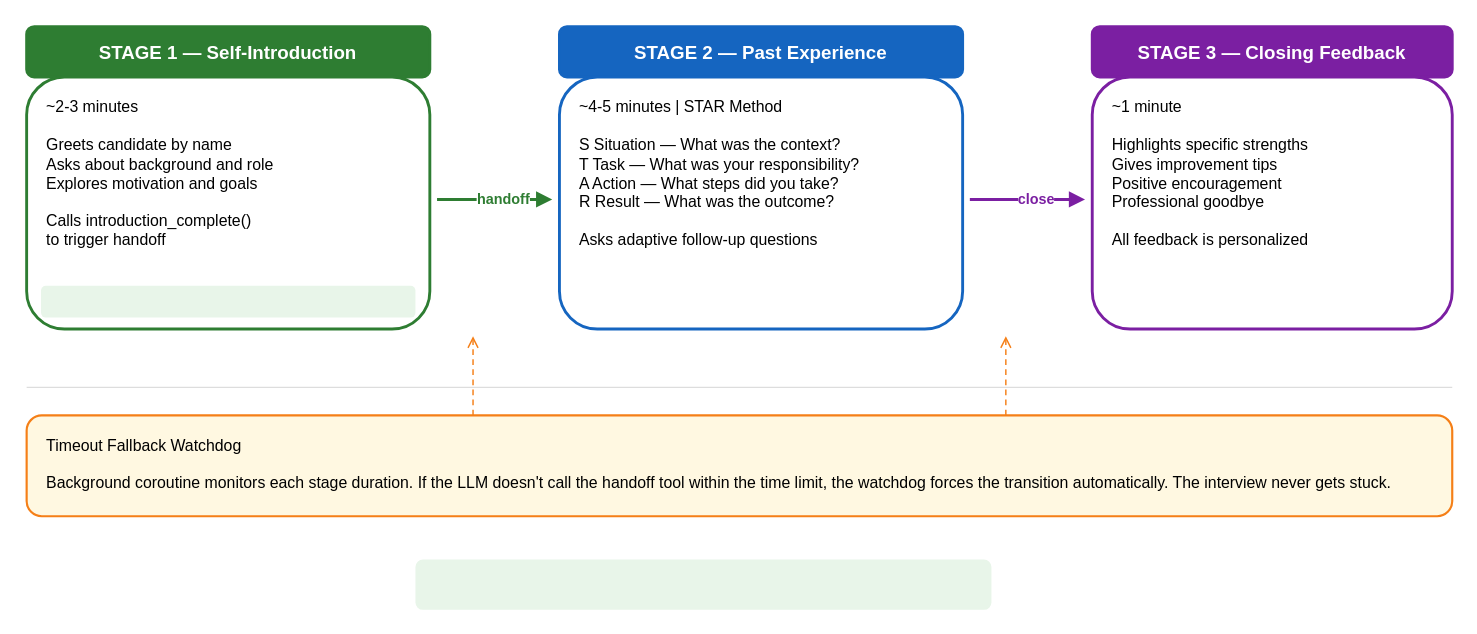
The diagram is 1477 pixels wide and 634 high, and some of its shapes have lost their labels. Here are the shapes that lost their labels. From the top down, the centre of each, then its label:
At [227,301]: "Passes candidate name and context via shared InterviewData".
At [703,584]: "Total interview: 8-12 minutes | Cost: 2-6 cents".
